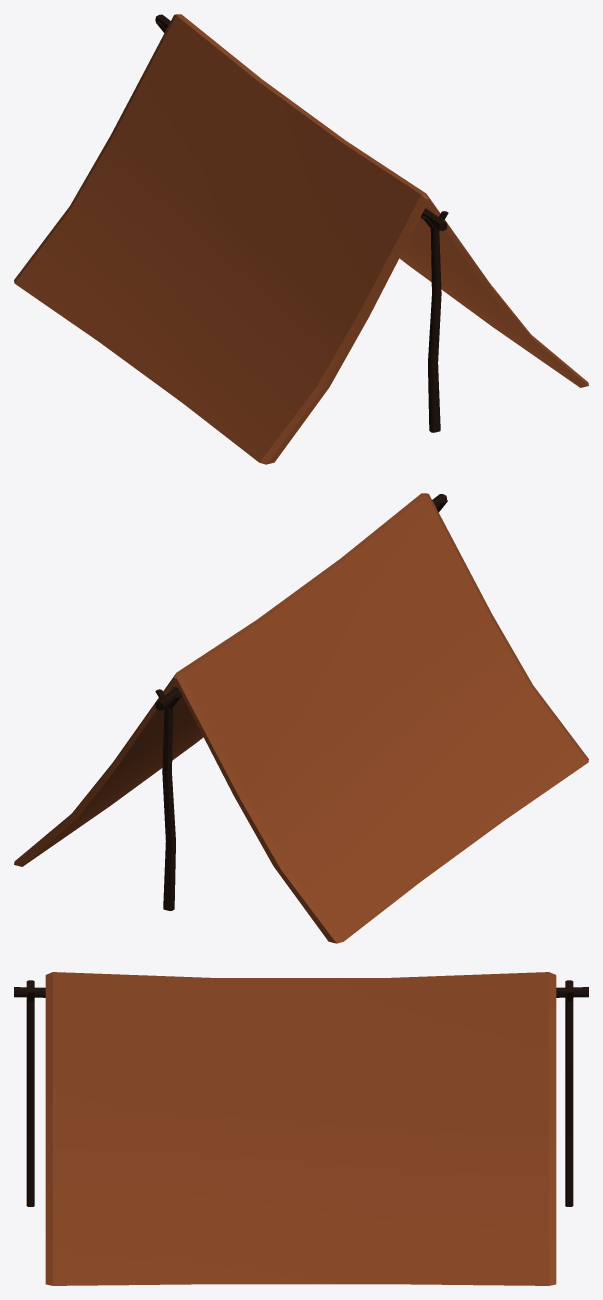
File: Tent_FBX.fbx
3 views of the same model, one above another, from view 1: azimuth 30°, elevation 25°; view 2: azimuth 150°, elevation 25°; view 3: azimuth 270°, elevation 25° (orthographic).
Parts seen in each view (by area): view 1: Tent_Fabric, Stick; view 2: Tent_Fabric, Tent_Stake02; view 3: Tent_Fabric, Stick, Tent_Stake02, Tent_Stake03.
Part boxes in pixels (box(x1,y1,x2,y2)): Tent_Fabric: box(14, 14, 588, 464); Stick: box(421, 211, 448, 432); Tent_Fabric: box(14, 493, 588, 943); Tent_Stake02: box(155, 689, 181, 910); Tent_Fabric: box(45, 972, 556, 1285); Stick: box(26, 980, 34, 1206); Tent_Stake02: box(565, 980, 573, 1206); Tent_Stake03: box(14, 987, 588, 997).
Size of the model in its own units: 244 by 162 by 365.
